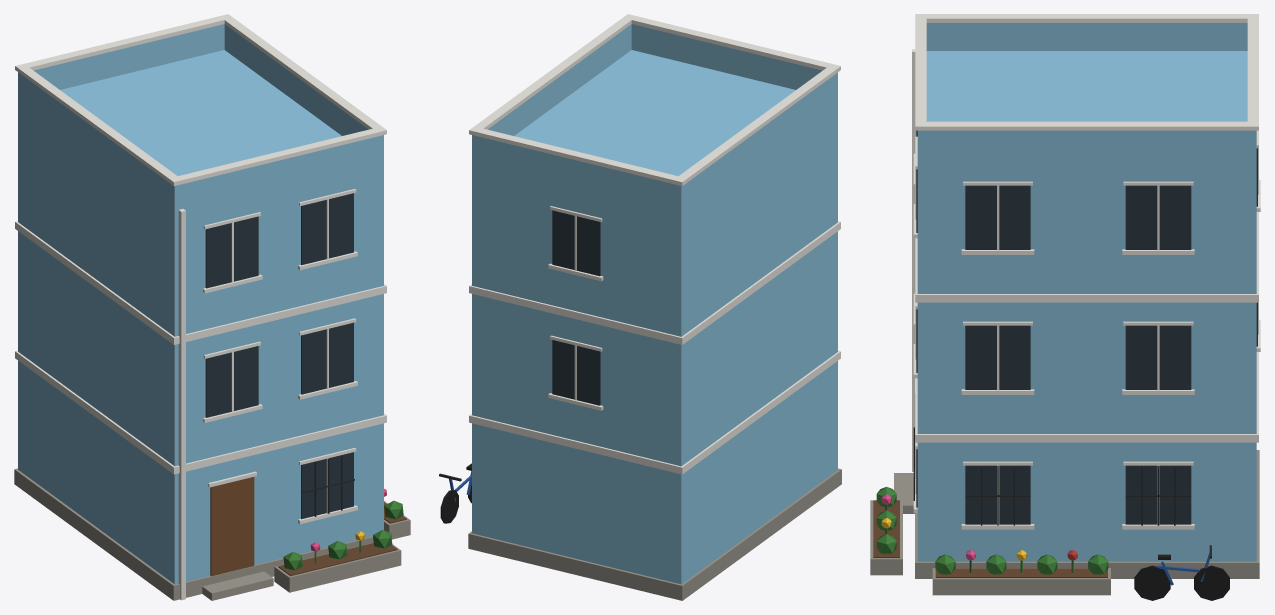
Rendered from BAY_F_Corner_R.glb.
3 renders of one model, left to right at view 1: azimuth 30°, elevation 25°; view 2: azimuth 150°, elevation 25°; view 3: azimuth 270°, elevation 25°, orthographic. The views are drawn at different scales.
Visible parts, largest first — view 1: BAY_F_Corner_R; view 2: BAY_F_Corner_R; view 3: BAY_F_Corner_R.
Part boxes in pixels (<box>): BAY_F_Corner_R: <box>14,14,410,600</box>; BAY_F_Corner_R: <box>439,14,841,600</box>; BAY_F_Corner_R: <box>870,14,1260,600</box>.
Bounding box in the file's own units: 5.58 × 8.4 × 6.57.
1 material, 1 textured.
